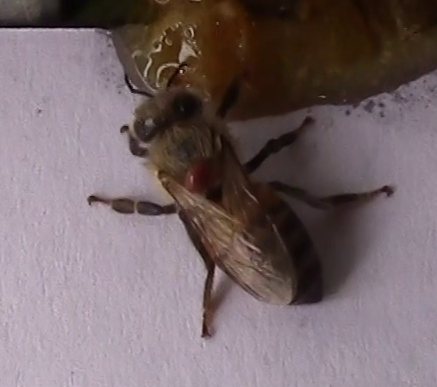Varroa destructor: (179, 155, 219, 195)
